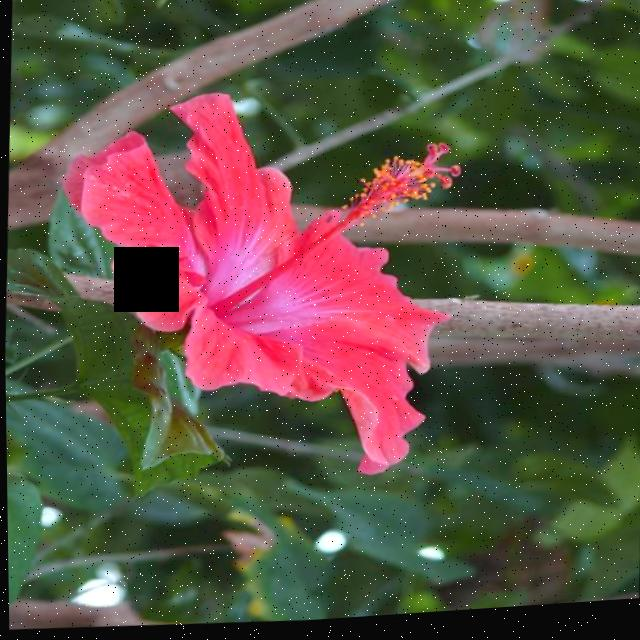hibiscus: (40, 26, 508, 509)
